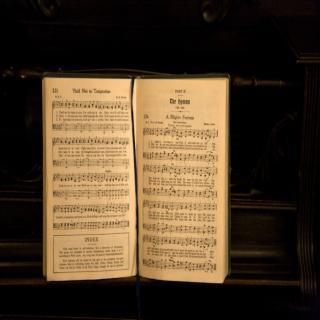book: (46, 65, 233, 292)
